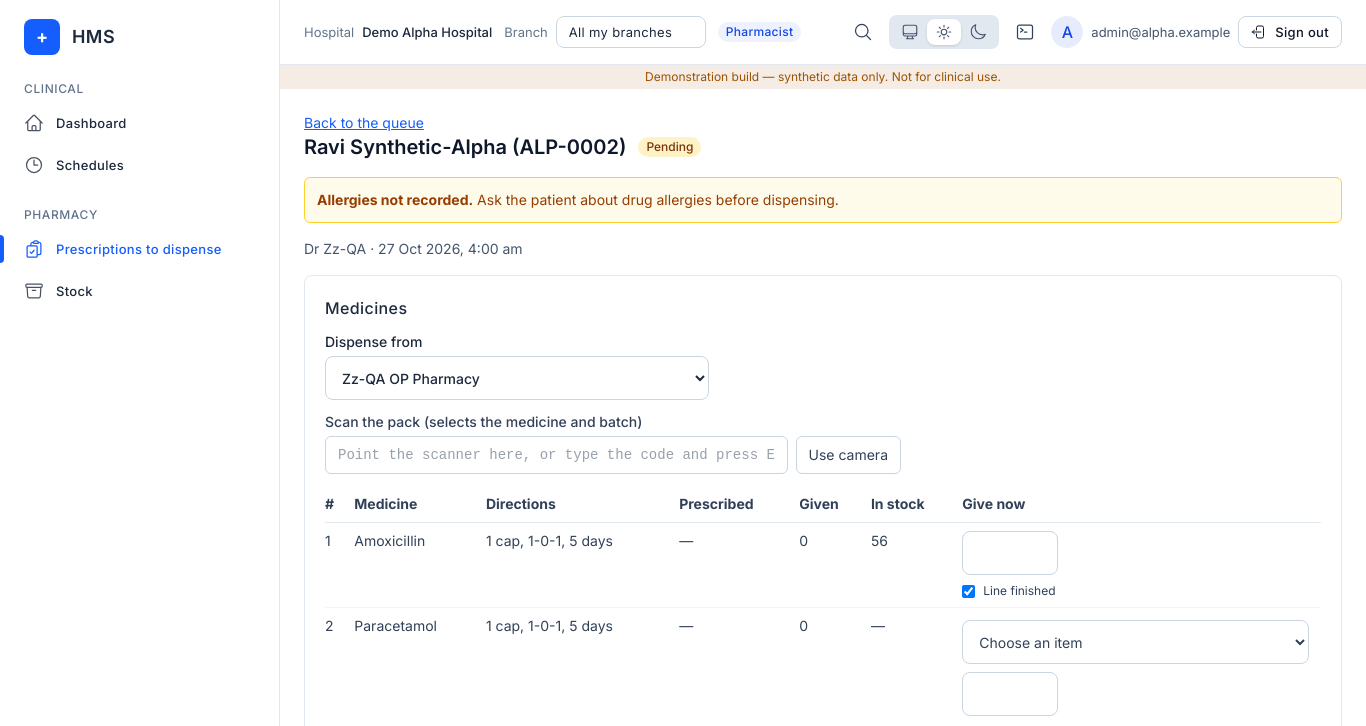
Test: Pharmacy dispensing › shows the server refusal for an expired prescription (#188)
Check: the dropdown with test id "dispense-store" shows "Zz-QA OP Pharmacy", box [325,356,709,400]
Type "2" into the field named "Quantity for line 1". click: (1010, 553)
box: [962,531,1058,575]
(page scrolled)
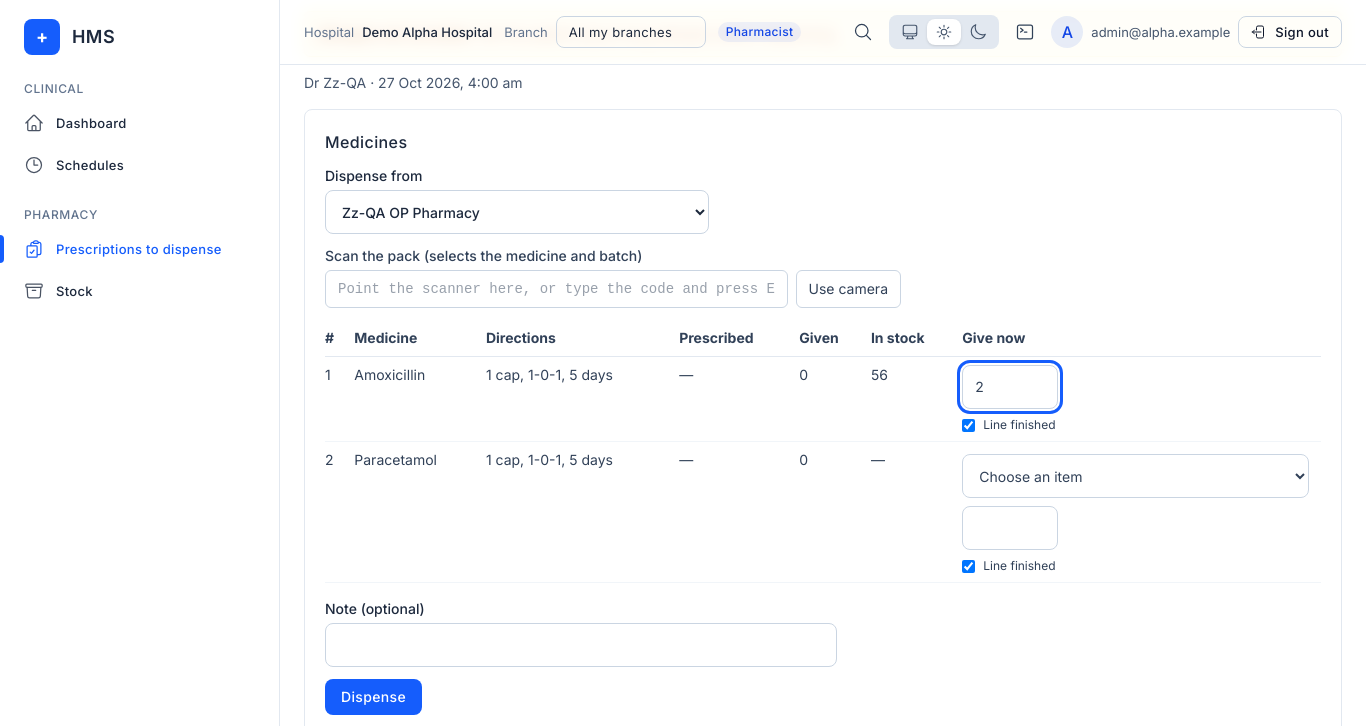
Click the button with test id "dispense-submit". click: (374, 697)
box: [325,679,422,715]
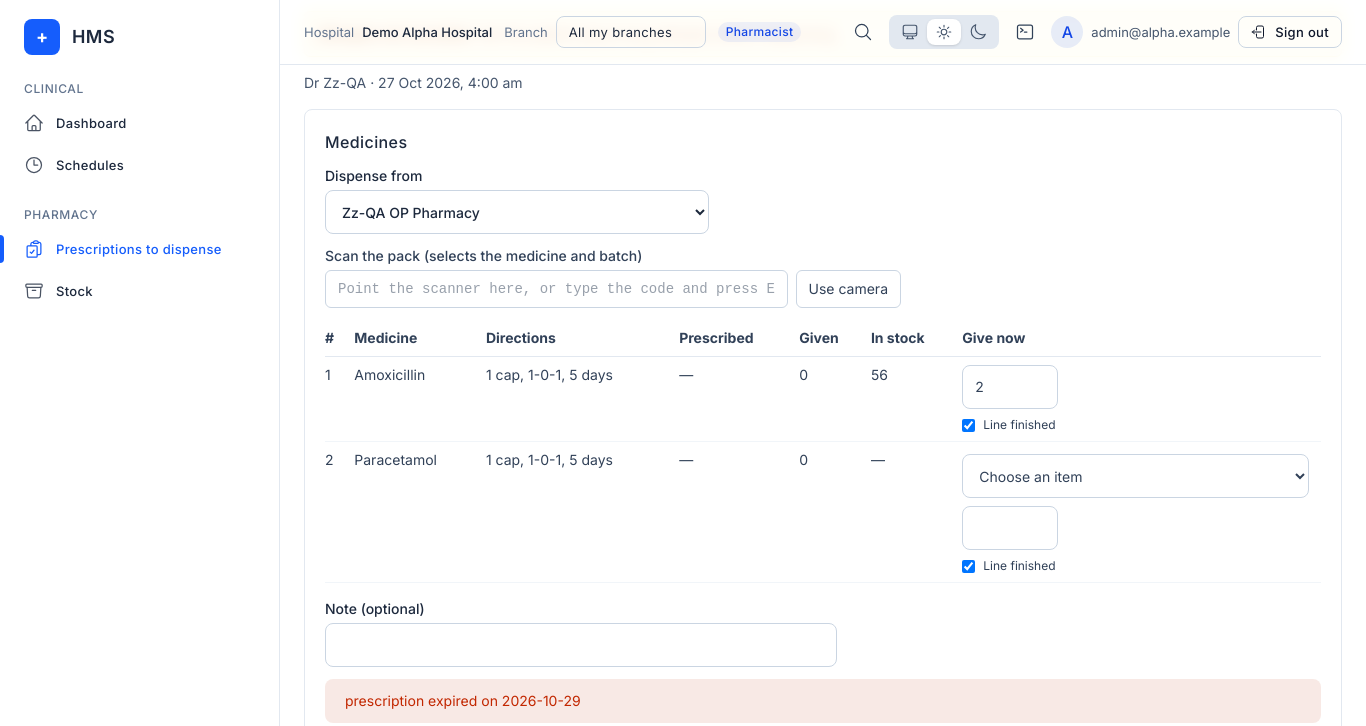
Check: the text "prescription expired on 2026-10-29" is shown, box [325,679,1321,723]
